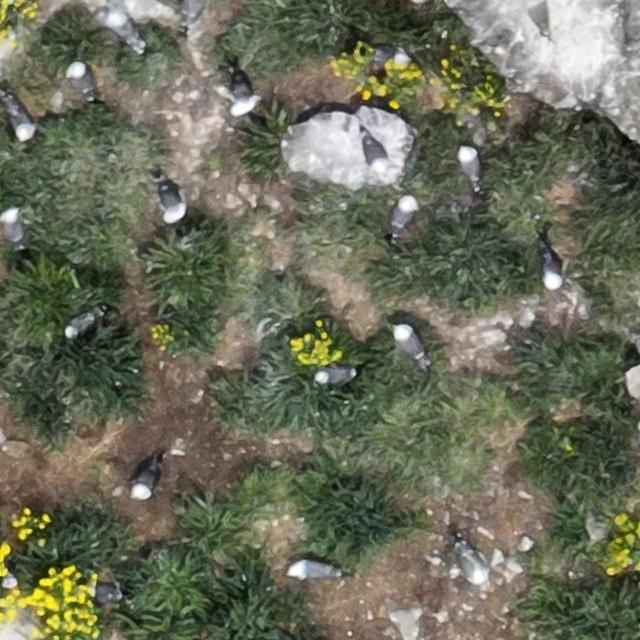umineko: (230, 57, 259, 120), (524, 2, 560, 36), (395, 327, 424, 360), (458, 549, 484, 583), (10, 104, 34, 140), (70, 64, 95, 98), (160, 187, 185, 221), (362, 134, 387, 168), (288, 562, 334, 580), (132, 464, 156, 498), (392, 195, 415, 229), (66, 310, 96, 336), (3, 210, 24, 245), (542, 254, 562, 290), (458, 149, 478, 182), (318, 367, 353, 385)
